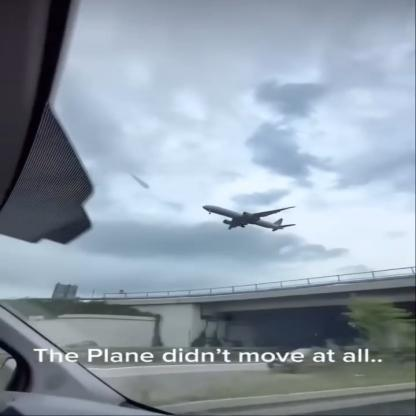plane: (196, 199, 305, 238)
